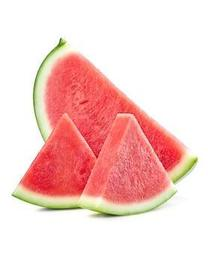watermelon: (12, 37, 200, 214)
